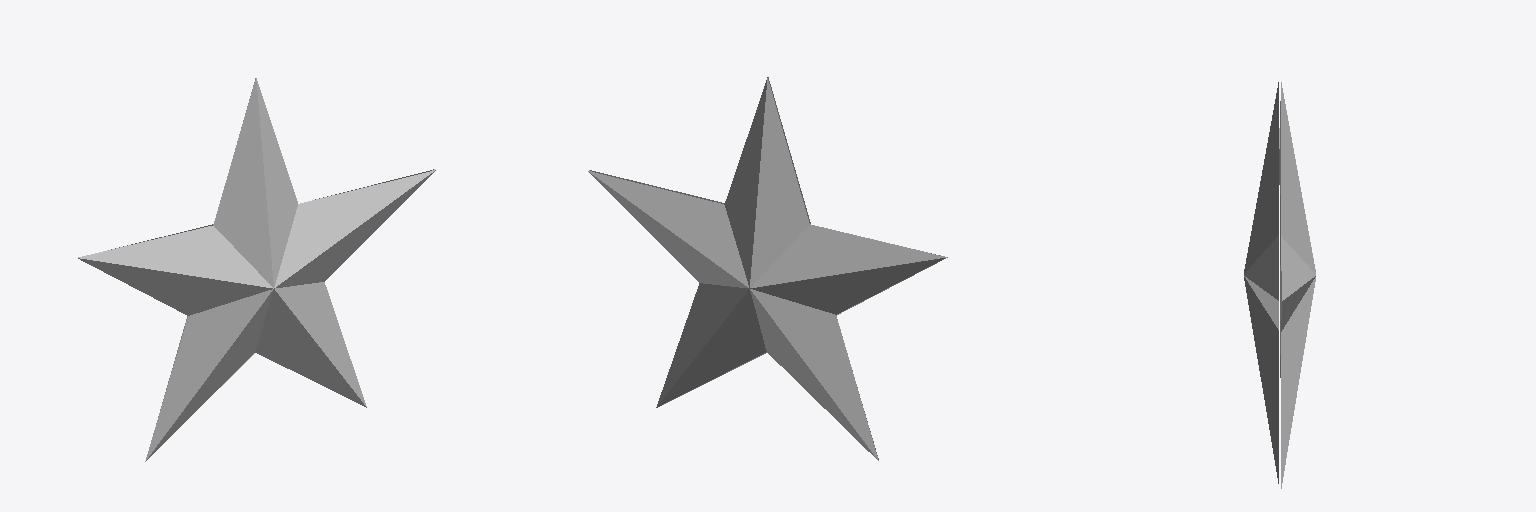
Rendered from star.obj.
The picture shows the model from 3 angles: view 1: azimuth 30°, elevation 25°; view 2: azimuth 150°, elevation 25°; view 3: azimuth 270°, elevation 25°; orthographic projection.
Visible parts, largest first — view 1: Circle.001; view 2: Circle; view 3: Circle, Circle.001.
Part boxes in pixels (left/top/right/bottom): Circle.001: left=78, top=78, right=435, bottom=461; Circle: left=588, top=77, right=946, bottom=460; Circle: left=1279, top=82, right=1315, bottom=488; Circle.001: left=1244, top=82, right=1278, bottom=483.
Bounding box in the file's own units: 3.23 × 3.07 × 0.567.